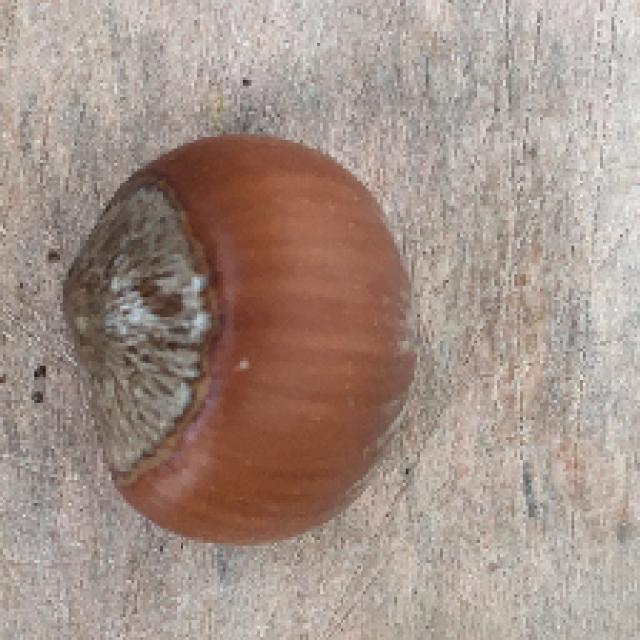damagedHazelnut: (61, 128, 421, 553)
